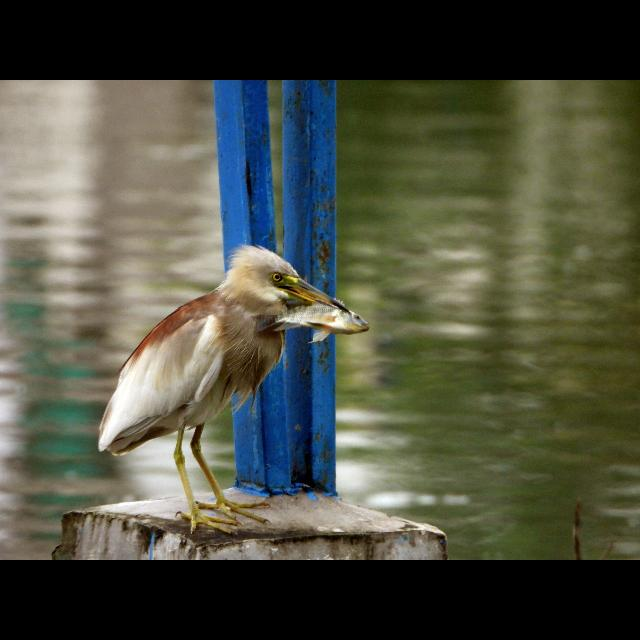heron: (98, 236, 366, 534)
